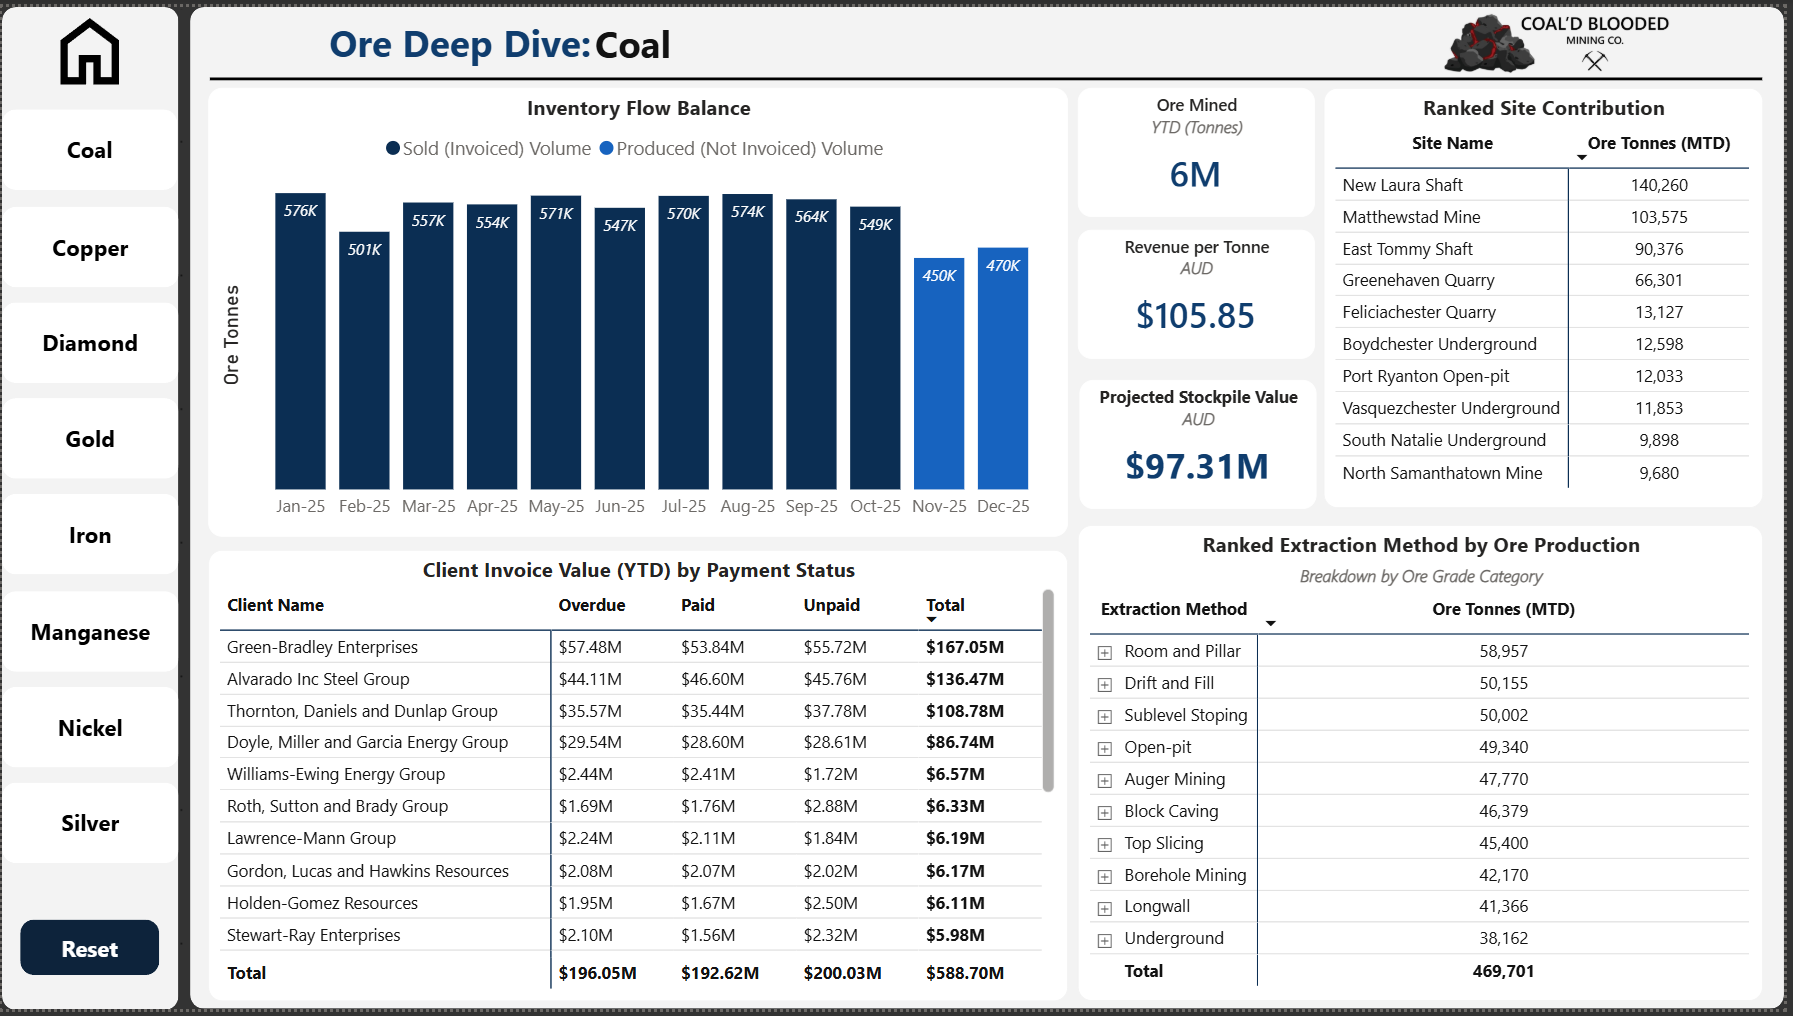

The page's visual inventory and layout, read from the dashboard file:
{"tool":"powerbi","page":{"name":"Ore Deep Dive","canvas":[1280,720],"ordinal":1},"visuals":[{"type":"slicer","title":"Ore_Nav_Slicer","fields":{"Values":["Dim_Ore.OreType"]},"box":[12,360,86.7,60],"z":0},{"type":"shape","box":[134.8,0,1145,719.6],"z":1000},{"type":"image","box":[965.3,0,314.4,49.3],"z":2000},{"type":"cardVisual","fields":{"Data":["All_Measures.Selected Ore Title"]},"box":[421.8,0,164.5,63.6],"z":3000},{"type":"textbox","box":[168.5,1.8,321.5,47.1],"z":4000},{"type":"shape","title":"Side Bar","box":[0,0,126.8,720.4],"z":5000},{"type":"shape","title":"Bold Title line","box":[148.8,44.9,1115,13.2],"z":6000},{"type":"image","box":[0,0,126.1,63.6],"z":7000},{"type":"actionButton","box":[0,281,127,58],"z":8000},{"type":"actionButton","box":[0,350,127,58],"z":9000},{"type":"actionButton","box":[0,488,127,58],"z":10000},{"type":"actionButton","box":[0,419,127,58],"z":11000},{"type":"actionButton","box":[0,557,127,58],"z":12000},{"type":"actionButton","box":[0,74,126,58],"z":13000},{"type":"actionButton","box":[0,143,127,58],"z":14000},{"type":"actionButton","box":[0,212,127,58],"z":15000},{"type":"cardVisual","title":"Ore Mined","fields":{"Data":["All_Measures.Ore Tonnes YTD"]},"box":[772.7,58.2,170,93],"z":16000},{"type":"lineStackedColumnComboChart","title":"Inventory Flow Balance","fields":{"Category":["Dim_dates.MonthYearLabel"],"Y":["All_Measures.Ore Sold (Dynamic)","All_Measures.Stockpile Tonnes (Dynamic)"]},"box":[148.7,58.3,617.4,322.6],"z":17000},{"type":"cardVisual","title":"Revenue per Tonne","fields":{"Data":["All_Measures.Revenue per Tonne"]},"box":[772.7,160,170,93],"z":18000},{"type":"cardVisual","title":"Projected Stockpile Value","fields":{"Data":["All_Measures.Projected Stockpile Value"]},"box":[773.6,267.3,170,93],"z":19000},{"type":"pivotTable","title":"Ranked Site Contribution","fields":{"Rows":["Dim_sites.SiteName"],"Values":["All_Measures.Ore Tonnes MTD"]},"box":[949.1,58.2,315.5,301.8],"z":20000},{"type":"pivotTable","title":"Ranked Extraction Method  by Ore Production","fields":{"Rows":["Fact_ore_volumes.ExtractionMethod","Fact_ore_volumes.OreGrade"],"Values":["All_Measures.Ore Tonnes MTD"]},"box":[772.4,372.6,492.3,341.7],"z":21000},{"type":"pivotTable","title":"Client Invoice Value (YTD) by Payment Status","fields":{"Rows":["Dim_clients.ClientName"],"Values":["All_Measures.Invoice Value (AUD, YTD)"],"Columns":["Fact_invoices.PaymentStatus"]},"box":[148.7,389.6,617.4,324.3],"z":22000},{"type":"actionButton","box":[13,655,100,40],"z":23000}]}

Visuals, with their boxes in screenshot pixels (x1, y1, x2, y2), scaled from the page's 1280x720 canvas onto the 1793x1016 screenshot:
"Ore_Nav_Slicer" slicer: detection(17, 508, 138, 593)
shape: detection(189, 0, 1792, 1015)
image: detection(1352, 0, 1792, 70)
cardVisual - All_Measures.Selected Ore Title: detection(591, 0, 821, 90)
textbox: detection(236, 3, 686, 69)
"Side Bar" shape: detection(0, 0, 178, 1015)
"Bold Title line" shape: detection(208, 63, 1770, 82)
image: detection(0, 0, 177, 90)
actionButton: detection(0, 397, 178, 478)
actionButton: detection(0, 494, 178, 576)
actionButton: detection(0, 689, 178, 770)
actionButton: detection(0, 591, 178, 673)
actionButton: detection(0, 786, 178, 868)
actionButton: detection(0, 104, 176, 186)
actionButton: detection(0, 202, 178, 284)
actionButton: detection(0, 299, 178, 381)
"Ore Mined" cardVisual: detection(1082, 82, 1321, 213)
"Inventory Flow Balance" lineStackedColumnComboChart: detection(208, 82, 1073, 537)
"Revenue per Tonne" cardVisual: detection(1082, 226, 1321, 357)
"Projected Stockpile Value" cardVisual: detection(1084, 377, 1322, 508)
"Ranked Site Contribution" pivotTable: detection(1329, 82, 1771, 508)
"Ranked Extraction Method  by Ore Production" pivotTable: detection(1082, 526, 1772, 1008)
"Client Invoice Value (YTD) by Payment Status" pivotTable: detection(208, 550, 1073, 1007)
actionButton: detection(18, 924, 158, 981)
